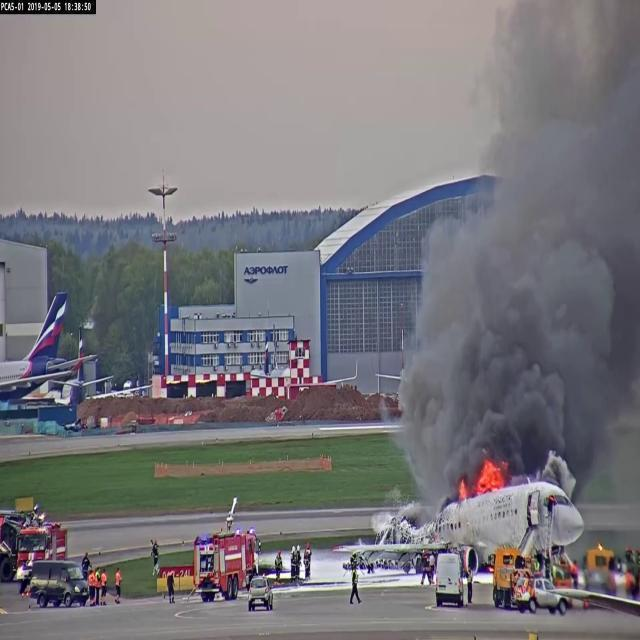Fire: (459, 470, 502, 503)
Smoke: (496, 3, 640, 439), (432, 227, 619, 442)
